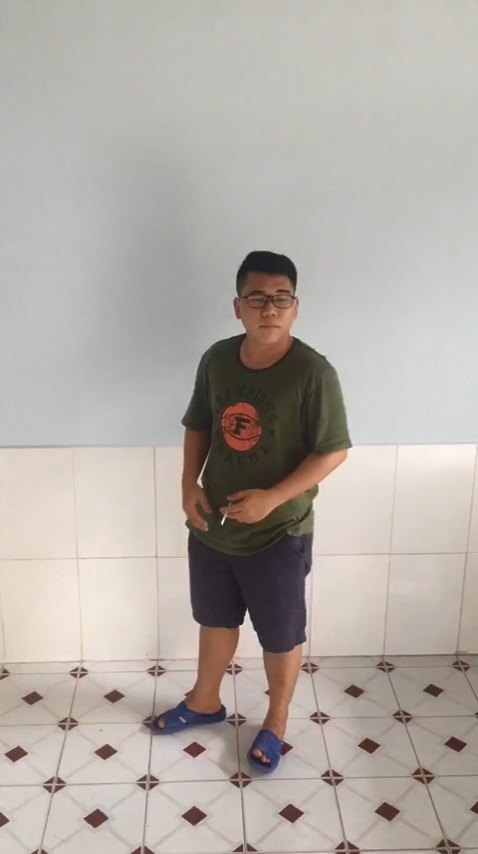cigarette: (217, 500, 239, 529)
person: (144, 225, 363, 792)
